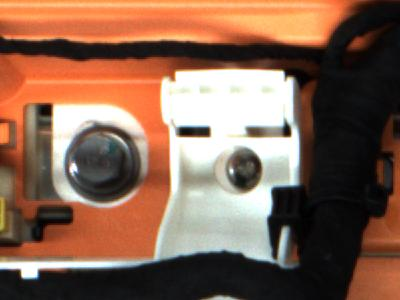nut_b: (61, 124, 144, 203)
